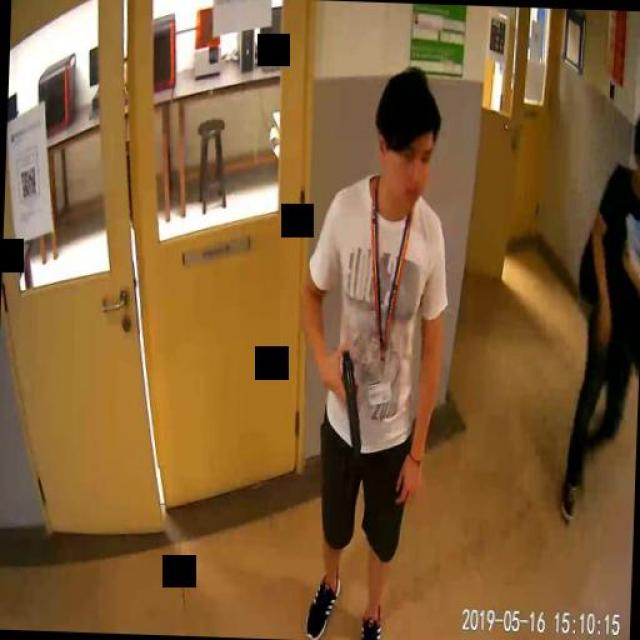gun: (331, 342, 365, 457)
